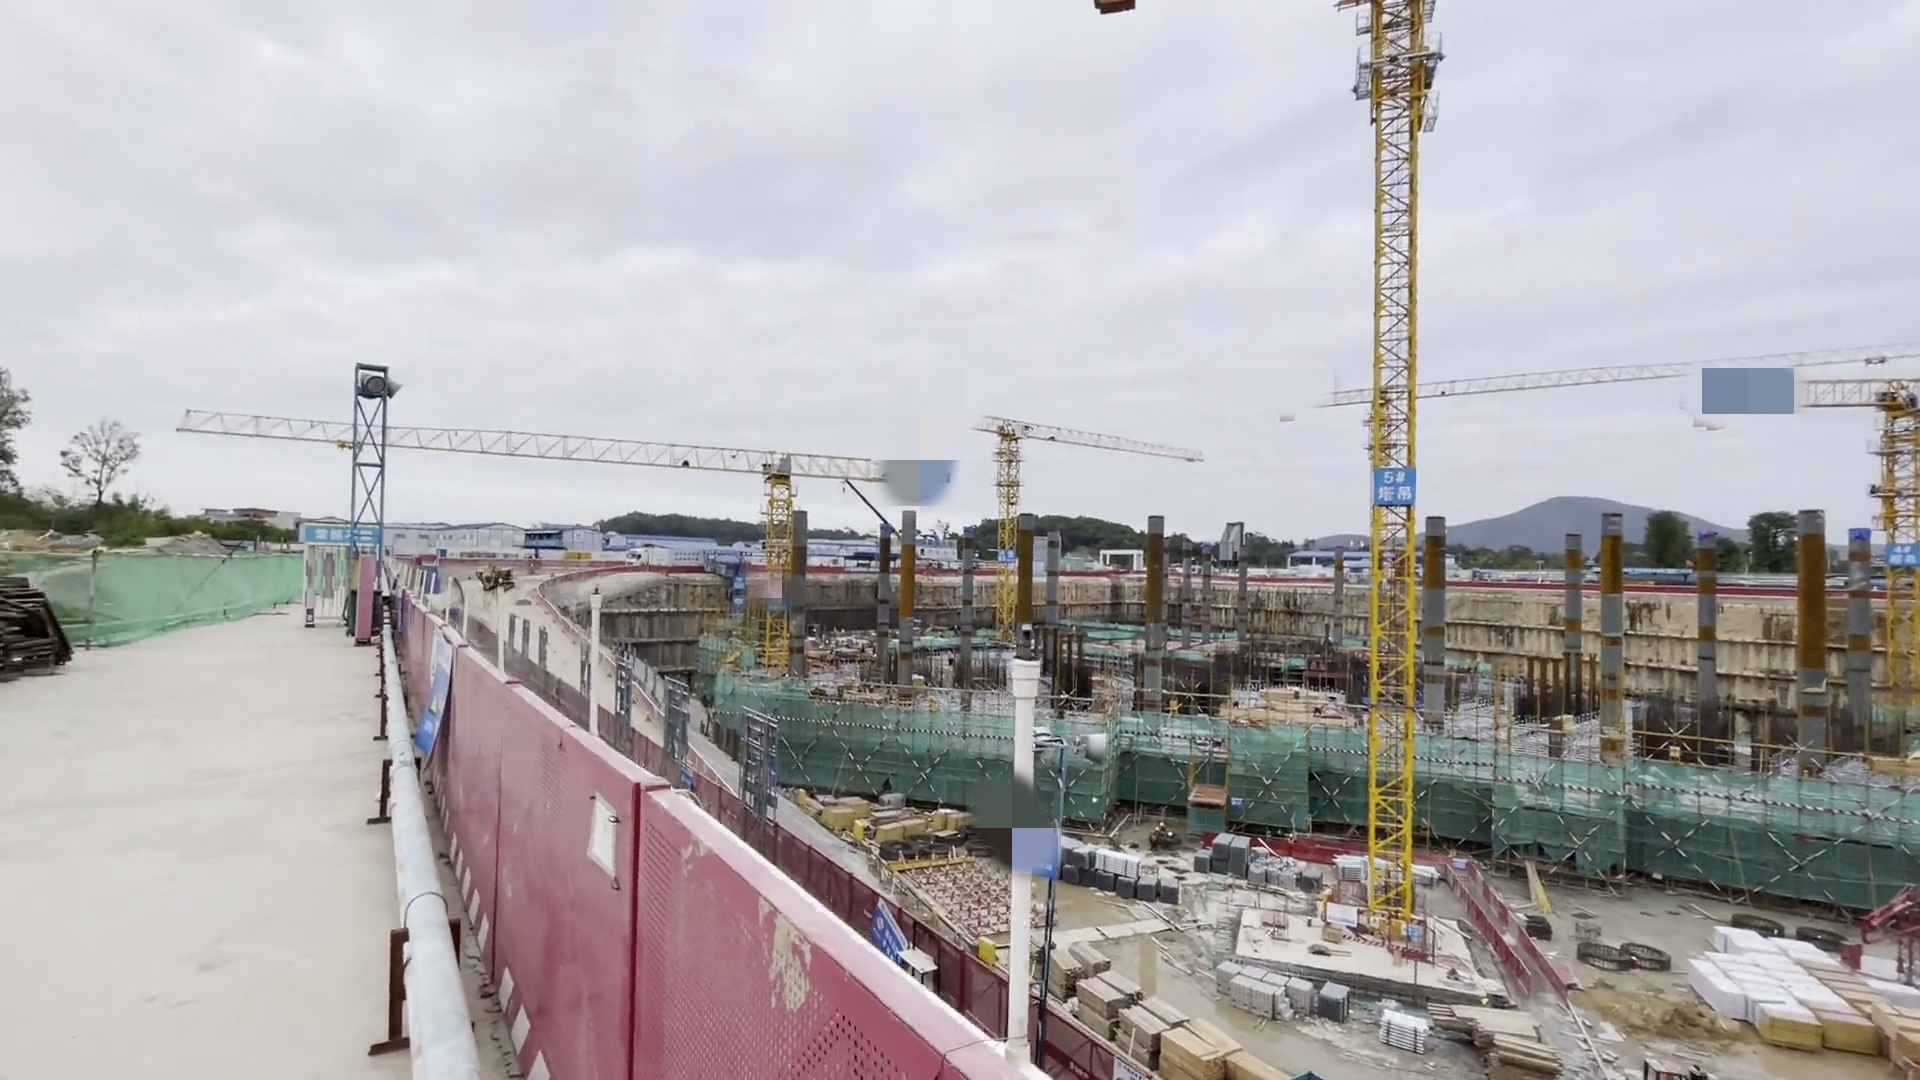board: (1778, 975, 1920, 1080)
brick: (1208, 953, 1370, 1038)
fence: (352, 608, 1131, 1073)
scaffold: (1361, 1006, 1443, 1065)
slogan: (411, 630, 469, 764), (861, 891, 915, 967), (1362, 460, 1422, 524), (295, 516, 381, 556), (1882, 538, 1920, 574)
wood: (1035, 903, 1255, 1080), (1415, 982, 1540, 1080)
